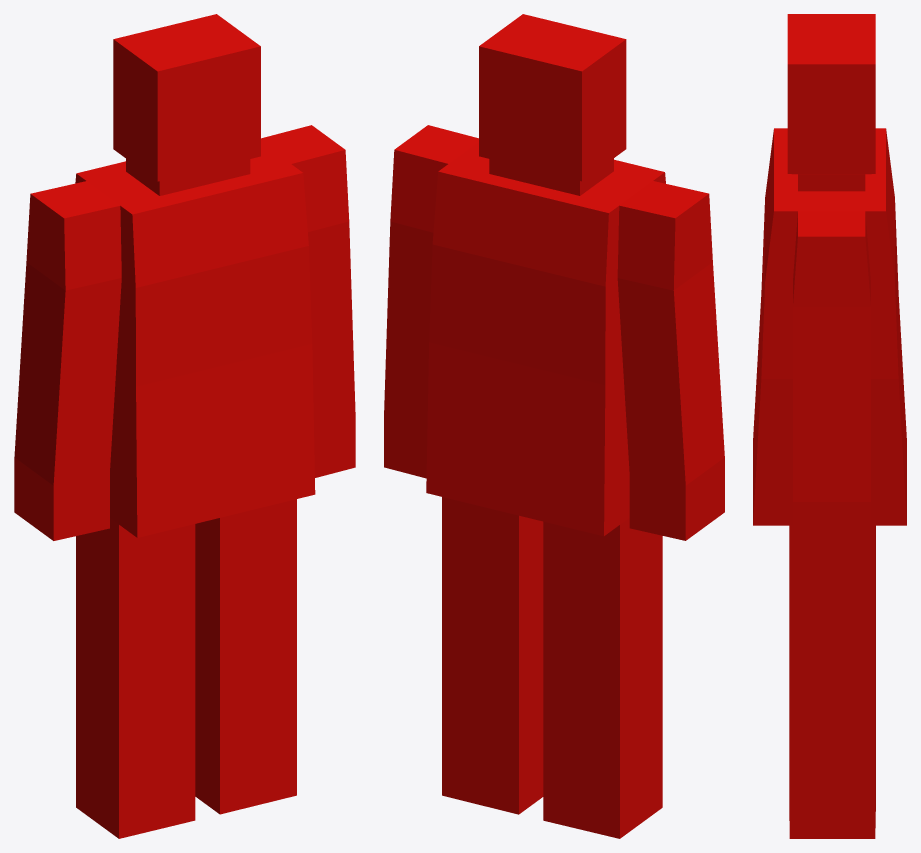
The model's file is LowPolyPerson 1.fbx.
3 views of the same model, side by side, from view 1: azimuth 30°, elevation 25°; view 2: azimuth 150°, elevation 25°; view 3: azimuth 270°, elevation 25° (orthographic).
Parts seen in each view (by area): view 1: Cube; view 2: Cube; view 3: Cube.
Part boxes in pixels (x1,y1,x2,y2): Cube: [14, 14, 355, 838]; Cube: [384, 14, 724, 838]; Cube: [753, 14, 906, 838].
Bounding box in the file's own units: 309 × 743 × 137.
